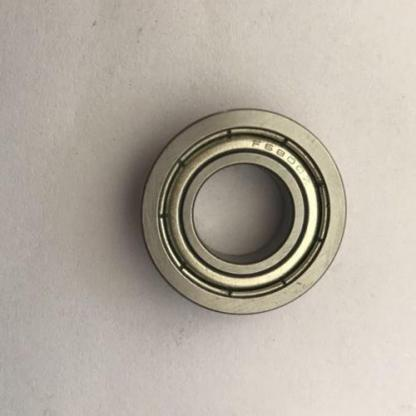FOD: (137, 105, 353, 322)
